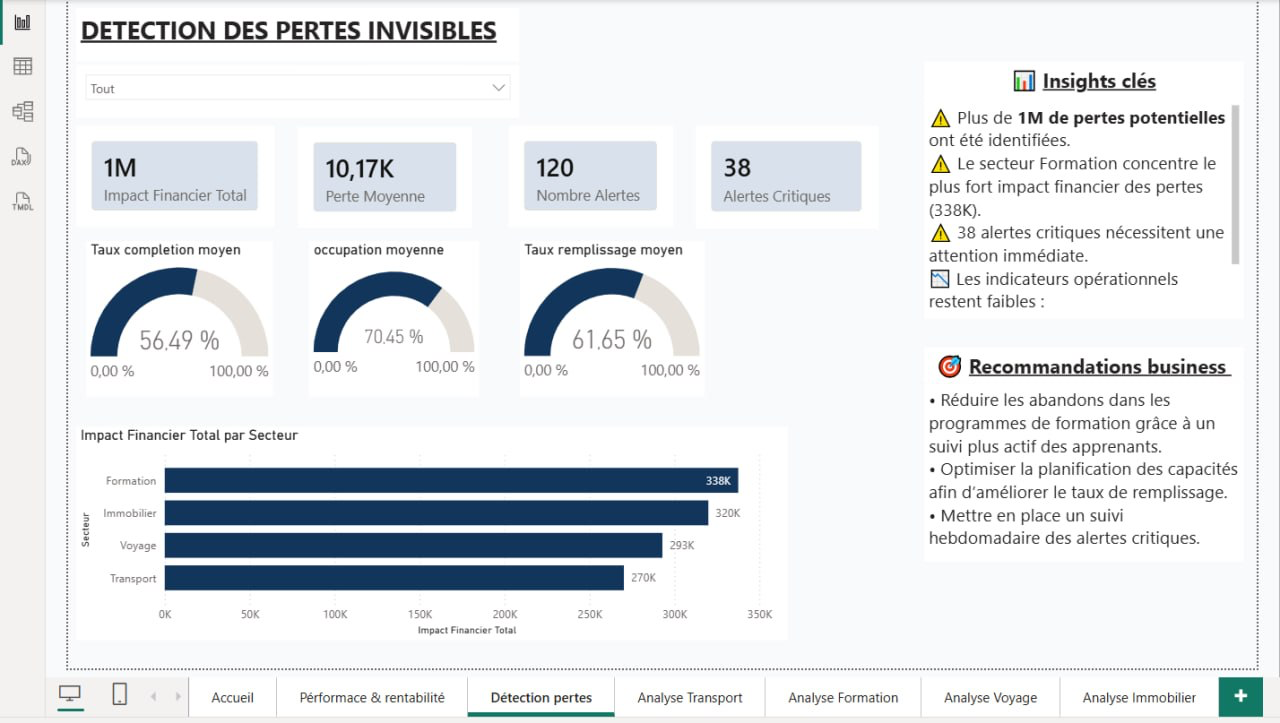

The dashboard page shown, as its layout file describes it:
{"tool":"powerbi","page":{"name":"Détection pertes","canvas":[1280,720],"ordinal":2},"visuals":[{"type":"textbox","box":[8.4,8.4,477.8,57.9],"z":0},{"type":"cardVisual","fields":{"Data":["Alerts_Opportunities.Perte Moyenne"]},"box":[247.3,136.3,188.2,109.8],"z":1000},{"type":"cardVisual","fields":{"Data":["Alerts_Opportunities.Alertes Critiques"]},"box":[675.6,135.1,196.6,111],"z":2000},{"type":"cardVisual","fields":{"Data":["Alerts_Opportunities.Nombre Alertes"]},"box":[474.1,135.1,177.3,109.8],"z":3000},{"type":"cardVisual","fields":{"Data":["Alerts_Opportunities.Impact Financier Total"]},"box":[8.4,135.1,213.5,109.8],"z":4000},{"type":"slicer","fields":{"Values":["Alerts_Opportunities.Date.Variation.Hiérarchie de dates.Année","Alerts_Opportunities.Date.Variation.Hiérarchie de dates.Mois","Alerts_Opportunities.Secteur"]},"box":[8.4,70,477.8,56.7],"z":5000},{"type":"gauge","fields":{"Y":["Alerts_Opportunities.Taux remplissage moyen"]},"box":[486.2,259.4,199.1,167.7],"z":6000},{"type":"gauge","fields":{"Y":["Alerts_Opportunities.Taux completion moyen"]},"box":[19.3,259.4,201.5,167.7],"z":7000},{"type":"gauge","fields":{"Y":["Alerts_Opportunities.occupation moyenne"]},"box":[259.4,259.4,183.4,167.7],"z":8000},{"type":"barChart","fields":{"Category":["Alerts_Opportunities.Secteur"],"Y":["Alerts_Opportunities.Impact Financier Total"]},"box":[8.4,459.7,766.1,230.4],"z":9000},{"type":"textbox","box":[921.7,66.4,343.8,42.2],"z":10000},{"type":"textbox","box":[921.7,108.6,343.8,235.3],"z":11000},{"type":"textbox","box":[921.7,374,343.8,38.6],"z":12000},{"type":"textbox","box":[921.7,412.6,343.8,193],"z":13000}]}

Visuals, with their boxes on the page's 1280x720 design canvas (x1, y1, x2, y2). These are canvas units, not pixel positions in the 1280x723 screenshot, which may show the page scaled, cropped or inside an application window:
textbox: Rect(8, 8, 486, 66)
cardVisual - Alerts_Opportunities.Perte Moyenne: Rect(247, 136, 436, 246)
cardVisual - Alerts_Opportunities.Alertes Critiques: Rect(676, 135, 872, 246)
cardVisual - Alerts_Opportunities.Nombre Alertes: Rect(474, 135, 651, 245)
cardVisual - Alerts_Opportunities.Impact Financier Total: Rect(8, 135, 222, 245)
slicer - Alerts_Opportunities.Date.Variation.Hiérarchie de dates.Année x Alerts_Opportunities.Date.Variation.Hiérarchie de dates.Mois: Rect(8, 70, 486, 127)
gauge - Alerts_Opportunities.Taux remplissage moyen: Rect(486, 259, 685, 427)
gauge - Alerts_Opportunities.Taux completion moyen: Rect(19, 259, 221, 427)
gauge - Alerts_Opportunities.occupation moyenne: Rect(259, 259, 443, 427)
barChart - Alerts_Opportunities.Secteur x Alerts_Opportunities.Impact Financier Total: Rect(8, 460, 774, 690)
textbox: Rect(922, 66, 1266, 109)
textbox: Rect(922, 109, 1266, 344)
textbox: Rect(922, 374, 1266, 413)
textbox: Rect(922, 413, 1266, 606)
